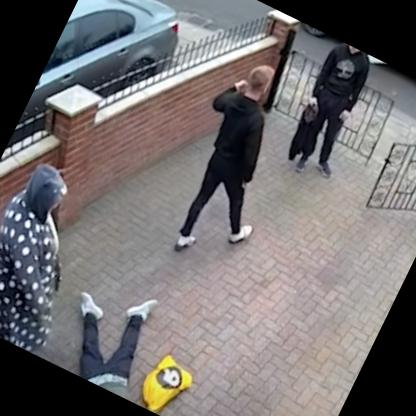Human Body: (144, 46, 329, 282), (0, 153, 123, 359), (272, 38, 384, 187)
